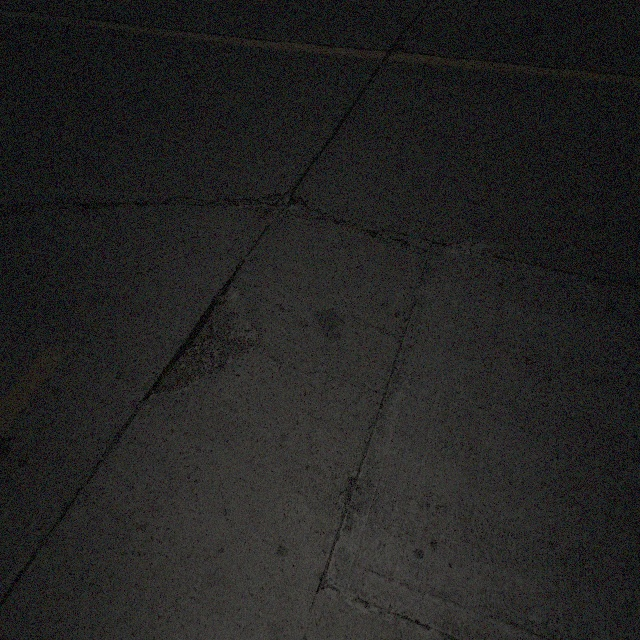pothole: (152, 271, 264, 400), (232, 185, 323, 218)
